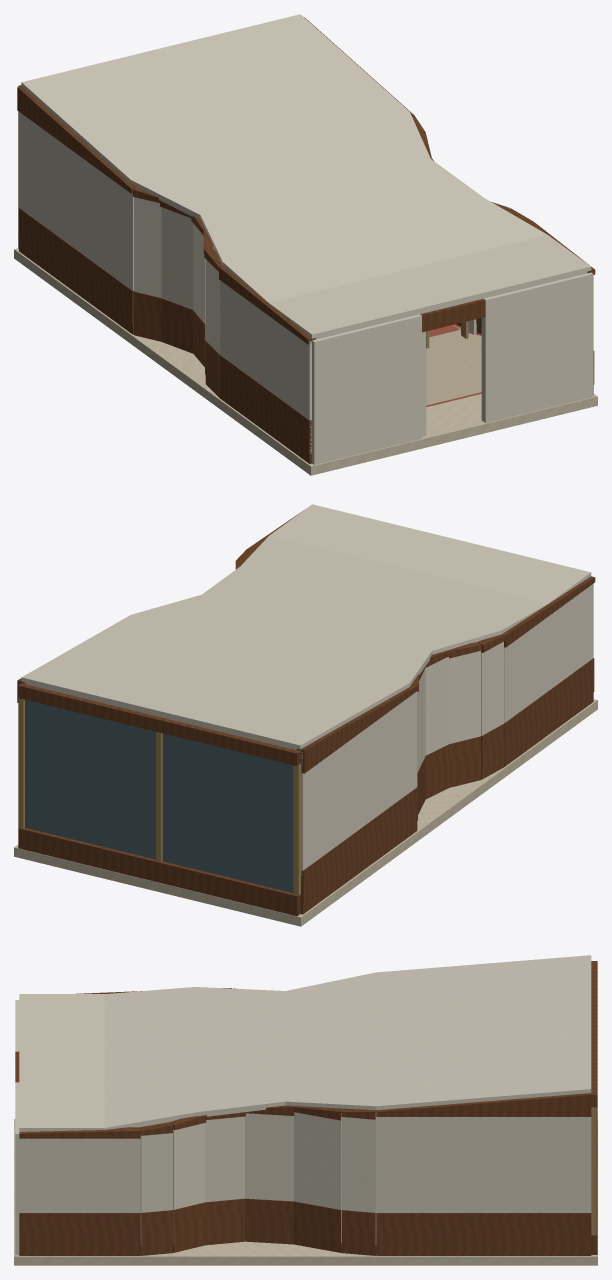
The model's file is shell.glb.
3 renders of one model, top to bottom at view 1: azimuth 30°, elevation 25°; view 2: azimuth 150°, elevation 25°; view 3: azimuth 270°, elevation 25°, orthographic.
Visible parts, largest first — view 1: FT_Runtime_ivory_enamel, FT_Runtime_warm_walnut, FT_Runtime_warm_stone, FT_Runtime_oatmeal_weave; view 2: FT_Runtime_ivory_enamel, FT_Runtime_FT_SourceDirectionalPrivacy_NOT_RUNTIME_ACCEPTED, FT_Runtime_warm_walnut, FT_Runtime_warm_stone, FT_Runtime_champagne_metal; view 3: FT_Runtime_ivory_enamel, FT_Runtime_warm_walnut, FT_Runtime_warm_stone, FT_Runtime_champagne_metal.
Part boxes in pixels (x1,y1,x2,y2): FT_Runtime_ivory_enamel: (19, 14, 593, 464); FT_Runtime_warm_walnut: (17, 17, 595, 463); FT_Runtime_warm_stone: (14, 248, 597, 475); FT_Runtime_oatmeal_weave: (213, 248, 481, 405); FT_Runtime_ivory_enamel: (21, 504, 593, 885); FT_Runtime_FT_SourceDirectionalPrivacy_NOT_RUNTIME_ACCEPTED: (25, 700, 293, 892); FT_Runtime_warm_walnut: (17, 511, 595, 916); FT_Runtime_warm_stone: (14, 699, 597, 926); FT_Runtime_champagne_metal: (18, 698, 300, 895); FT_Runtime_ivory_enamel: (15, 955, 591, 1254); FT_Runtime_warm_walnut: (15, 961, 597, 1255); FT_Runtime_warm_stone: (14, 1119, 597, 1265); FT_Runtime_champagne_metal: (591, 1107, 596, 1235).
Size of the model in its own units: 7.2 by 4.26 by 12.9.
Materials: 8 (6 with a texture image).
